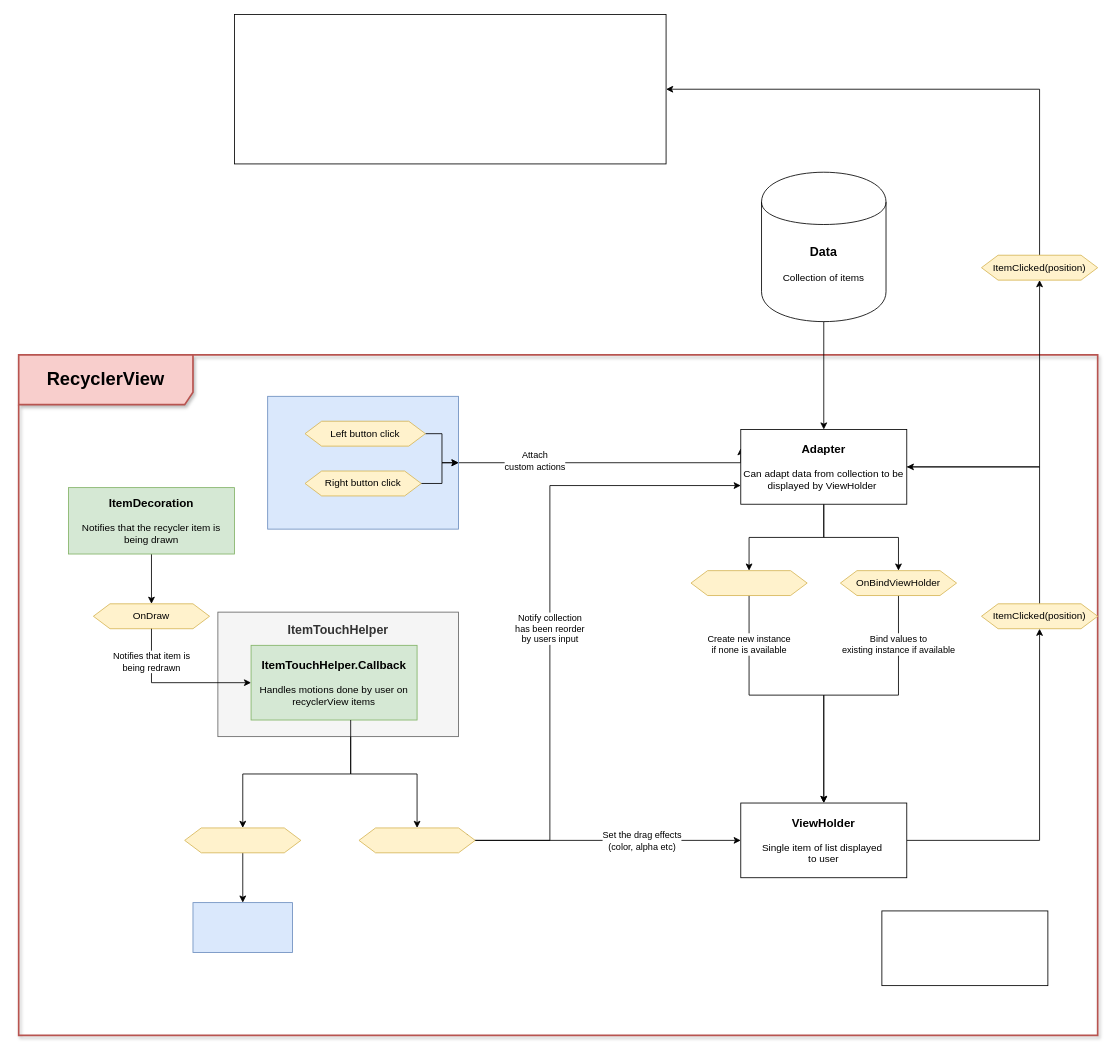
Some shapes in this 1117 by 1057 pixel diagram are drawn without their labels. The shapes that lost their labels are listed below. From the top down, each one's centre as x and y in pixels, then its label:
At point (450, 89): "View".
At point (748, 583): "OnCreateViewHolder".
At point (242, 840): "OnSwipe <horizontal>".
At point (416, 840): "OnDrag <vertical>".
At point (242, 927): "Draw buttons".
At point (964, 948): "LayoutManager Provides information how should items be displayed (list, grid)".
